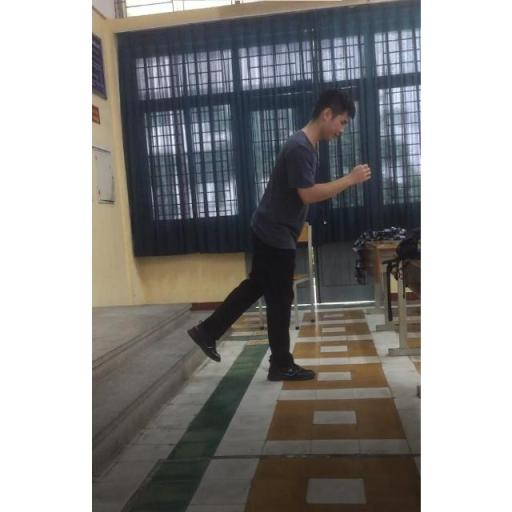Running: (186, 83, 374, 386)
